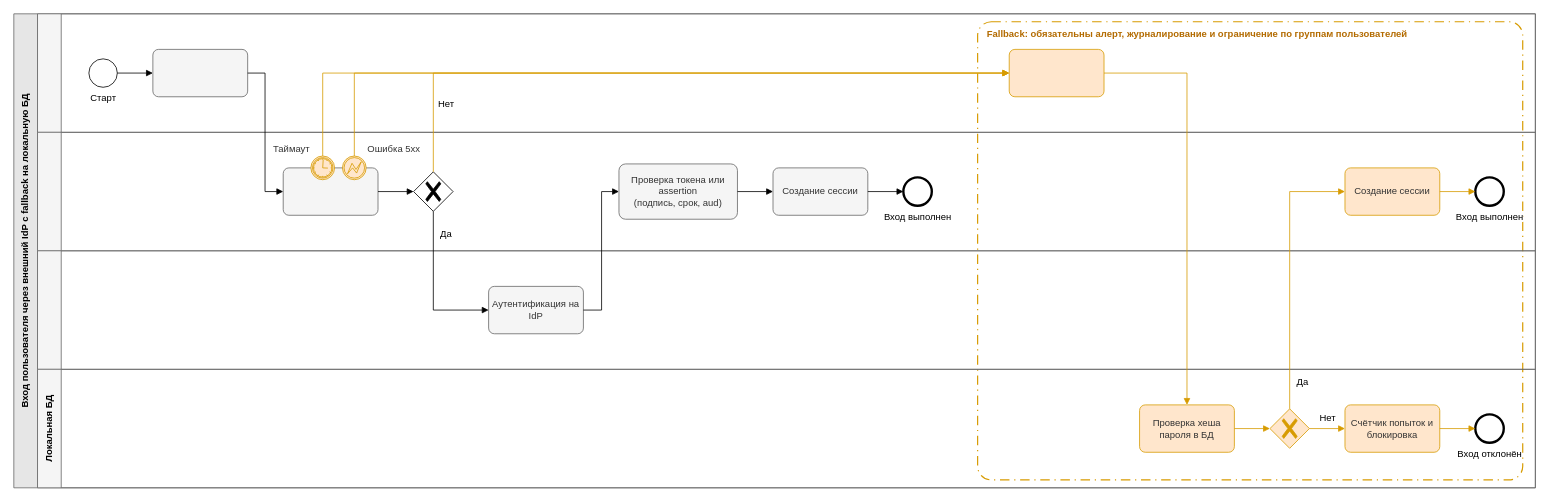
Some shapes in this 1549 by 502 pixel diagram are drawn without their labels. The shapes that lost their labels are listed below. From the top down, each one's box as (x1, y1, x2, y2) in pixels, then its label:
(152, 49, 248, 97): Вход в приложение
(37, 13, 1535, 132): Пользователь
(1008, 49, 1104, 97): Форма логина: логин и пароль
(282, 167, 378, 215): Редирект на IdP
(413, 171, 453, 211): IdP доступен?
(37, 132, 1535, 251): Приложение
(37, 250, 1535, 369): Внешний IdP
(1269, 408, 1309, 448): Верно?
